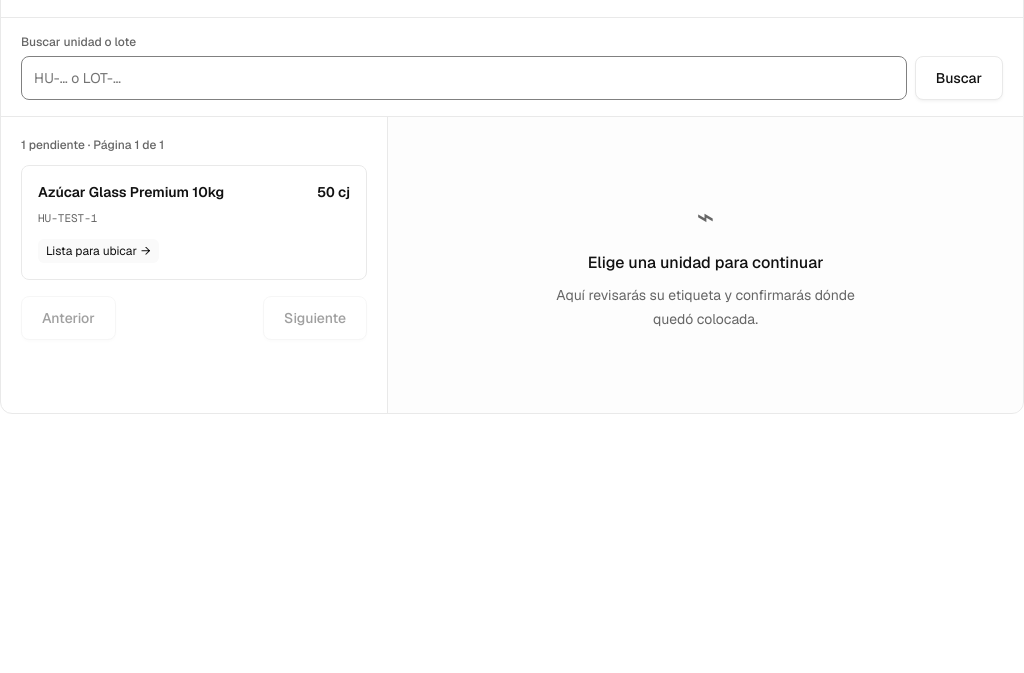
it: preparación del bodeguero › exige lectura de unidad y ubicación antes de ingresar
Click the button "Azúcar Glass Premium". click: (131, 192)
box: top-left (21, 165), bottom-right (367, 280)
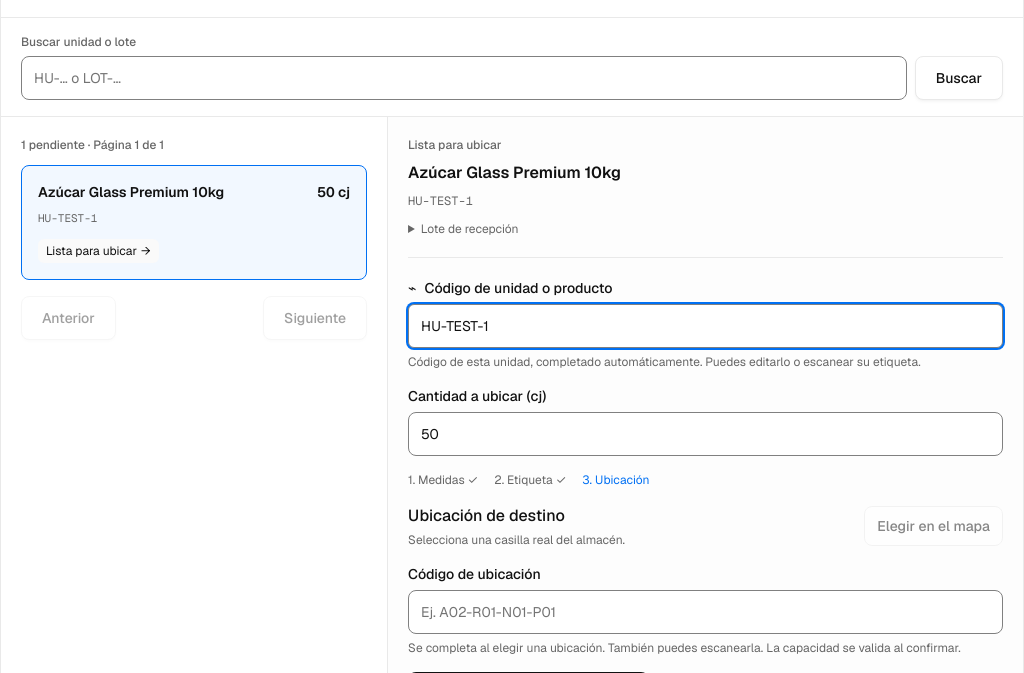
Check: the field labelled "Código de unidad o producto" holds "HU-TEST-1"
Clear the field labelled "Código de unidad o producto". click: (706, 326)
box: top-left (408, 304), bottom-right (1003, 348)
(page scrolled)
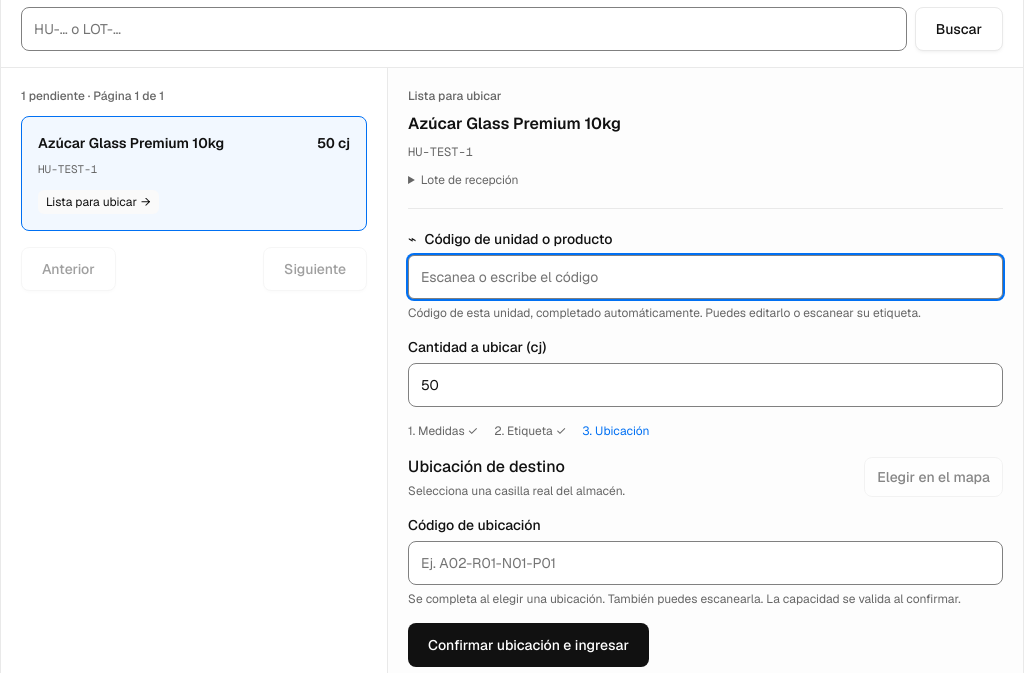
Click the button "Confirmar ubicación e ingresar". click: (528, 645)
box: top-left (408, 623), bottom-right (649, 667)
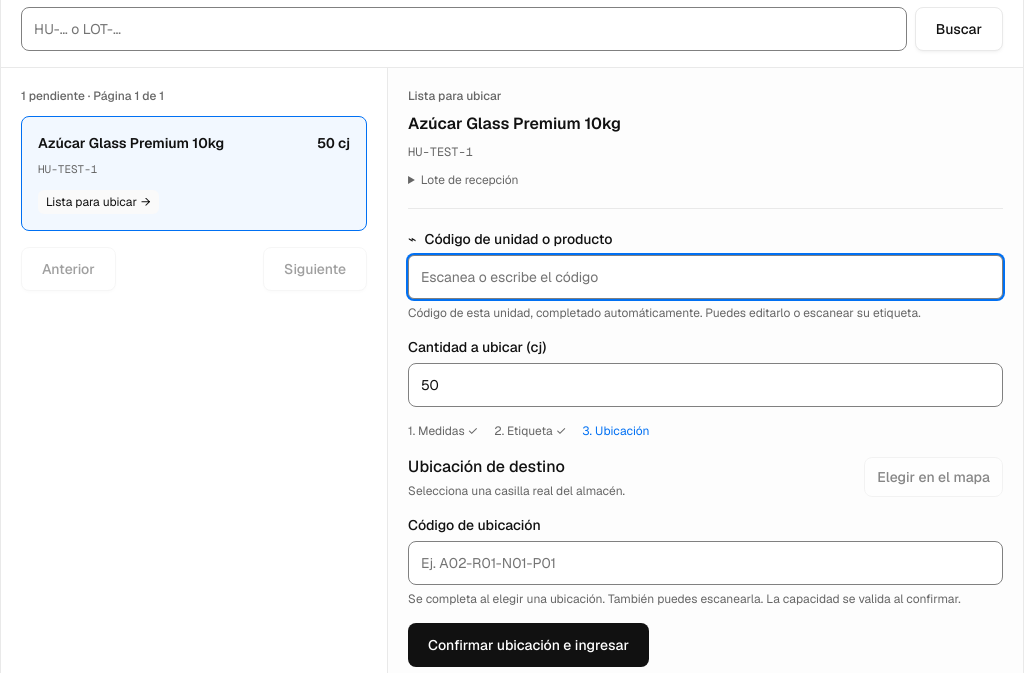
Type "HU-TEST-1" into the field labelled "Código de unidad o producto". click: (706, 277)
box: top-left (408, 255), bottom-right (1003, 299)
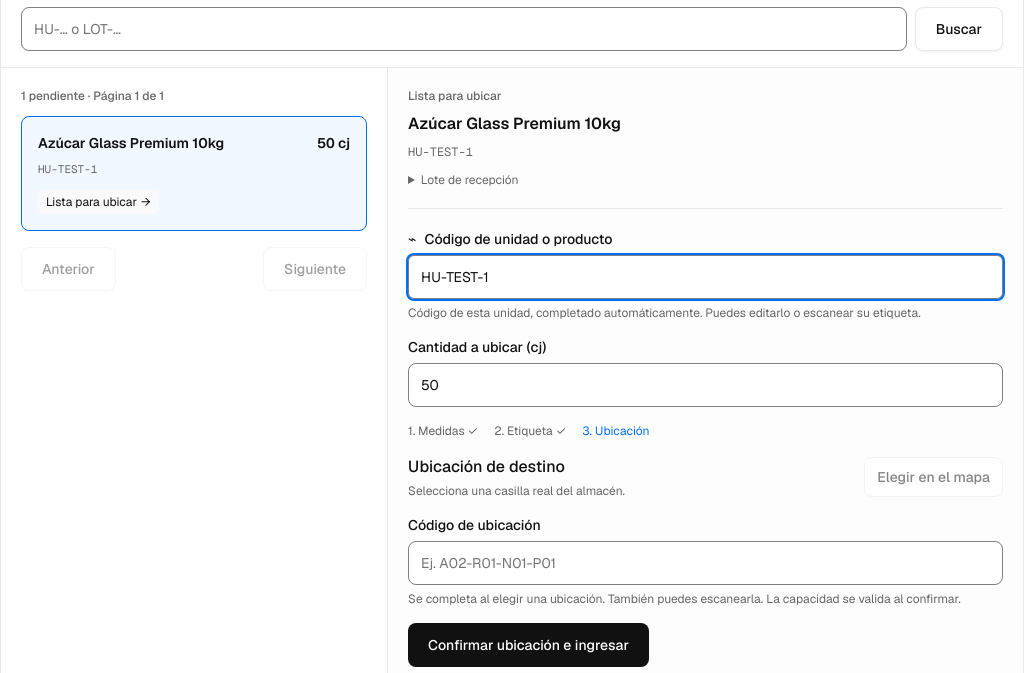
Click the button "Confirmar ubicación e ingresar". click: (528, 645)
box: top-left (408, 623), bottom-right (649, 667)
(page scrolled)
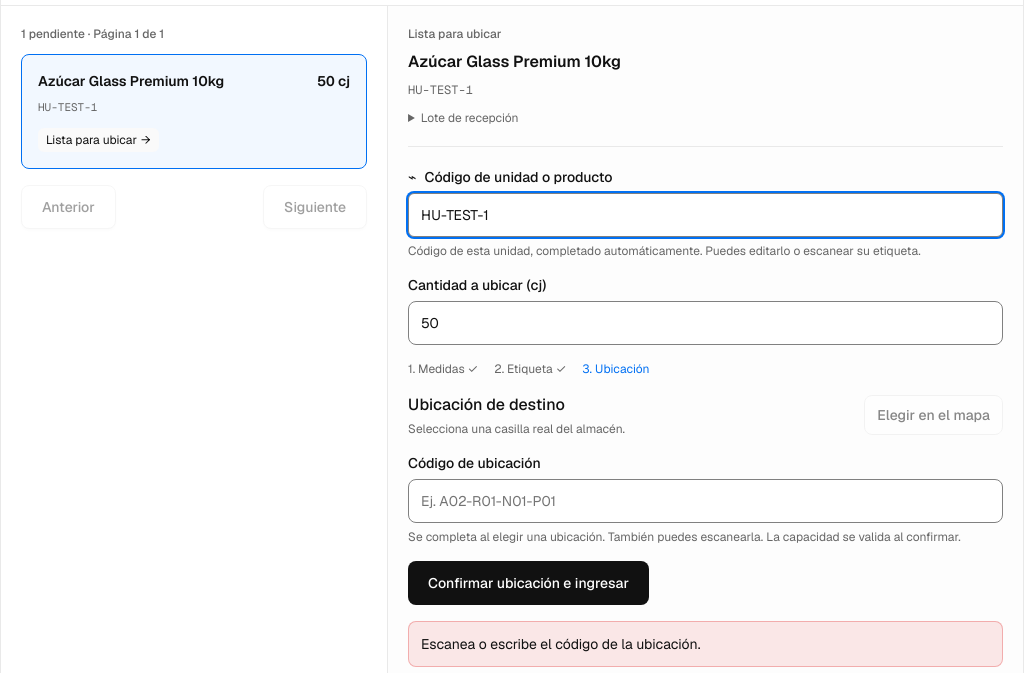
Check: the message shows "código de la ubicación", box top-left (421, 635), bottom-right (700, 653)
